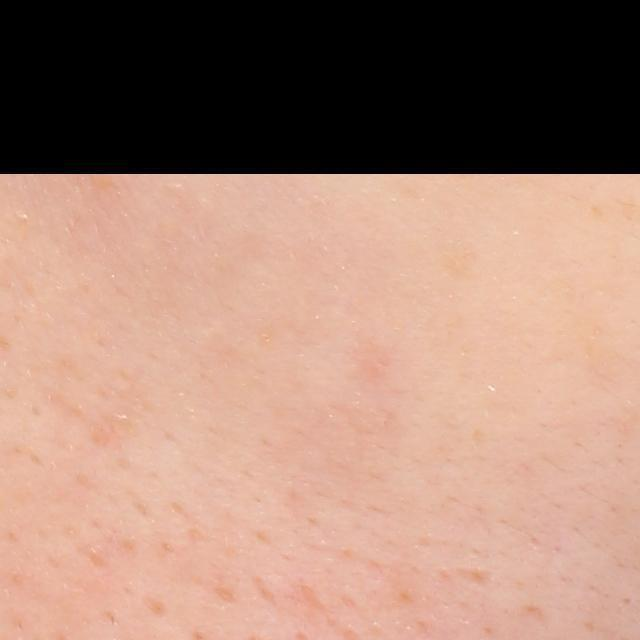melasma: (533, 270, 628, 376), (439, 233, 494, 279)
